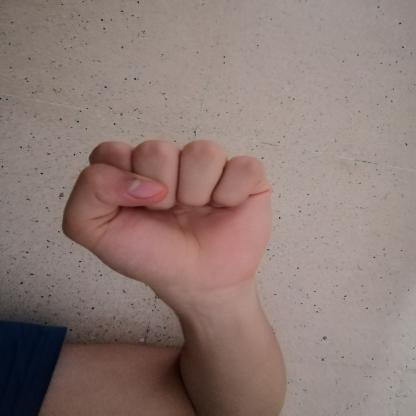SAD: (33, 126, 323, 313)
